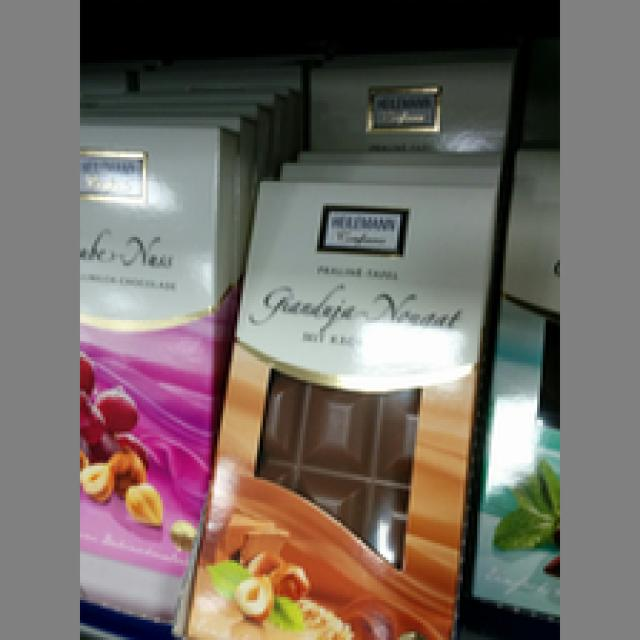groceries: (183, 180, 488, 637), (77, 120, 226, 629)
